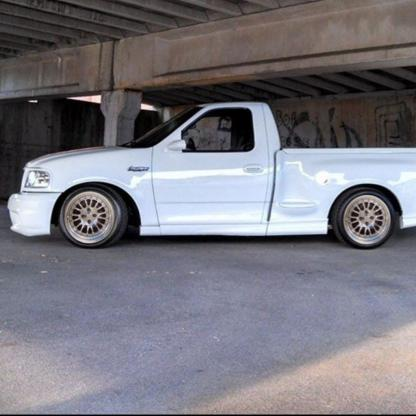Truck: (7, 102, 415, 251)
